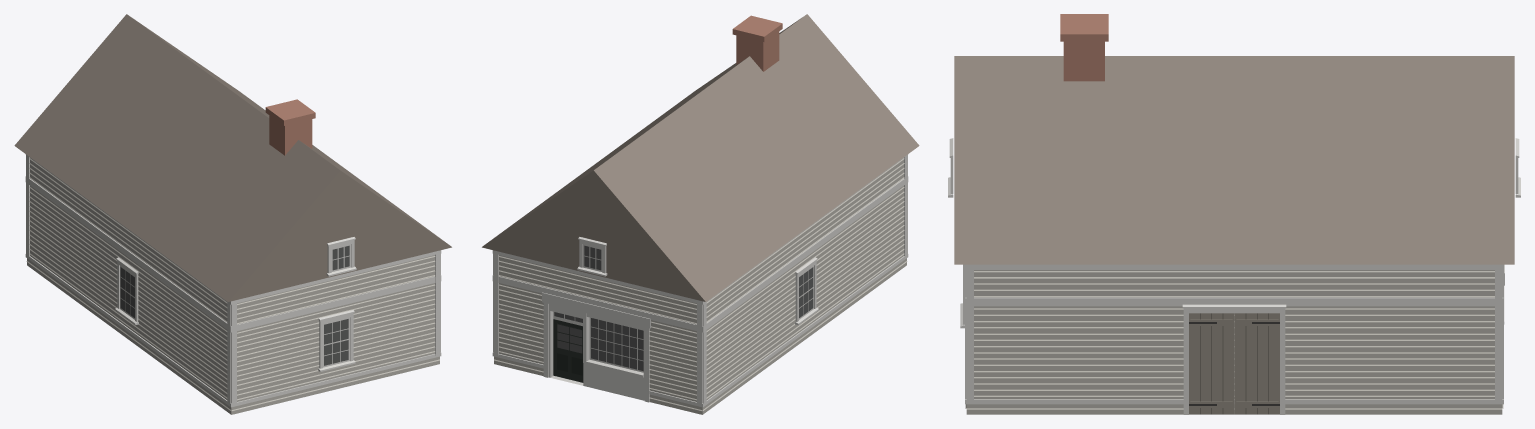
The model's file is recon_1835_core_c2_047__inferred_1835.glb.
3 views of the same model, side by side, from view 1: azimuth 30°, elevation 25°; view 2: azimuth 150°, elevation 25°; view 3: azimuth 270°, elevation 25° (orthographic). The views are drawn at different scales.
Visible parts, largest first — view 1: recon_1835_core_c2_047__inferred_1835; view 2: recon_1835_core_c2_047__inferred_1835; view 3: recon_1835_core_c2_047__inferred_1835.
Boxes of the visible parts, <box> form: recon_1835_core_c2_047__inferred_1835: <box>14,14,451,414</box>; recon_1835_core_c2_047__inferred_1835: <box>482,14,919,414</box>; recon_1835_core_c2_047__inferred_1835: <box>948,14,1520,414</box>.
Size of the model in its own units: 6.92 by 7.26 by 11.65.
